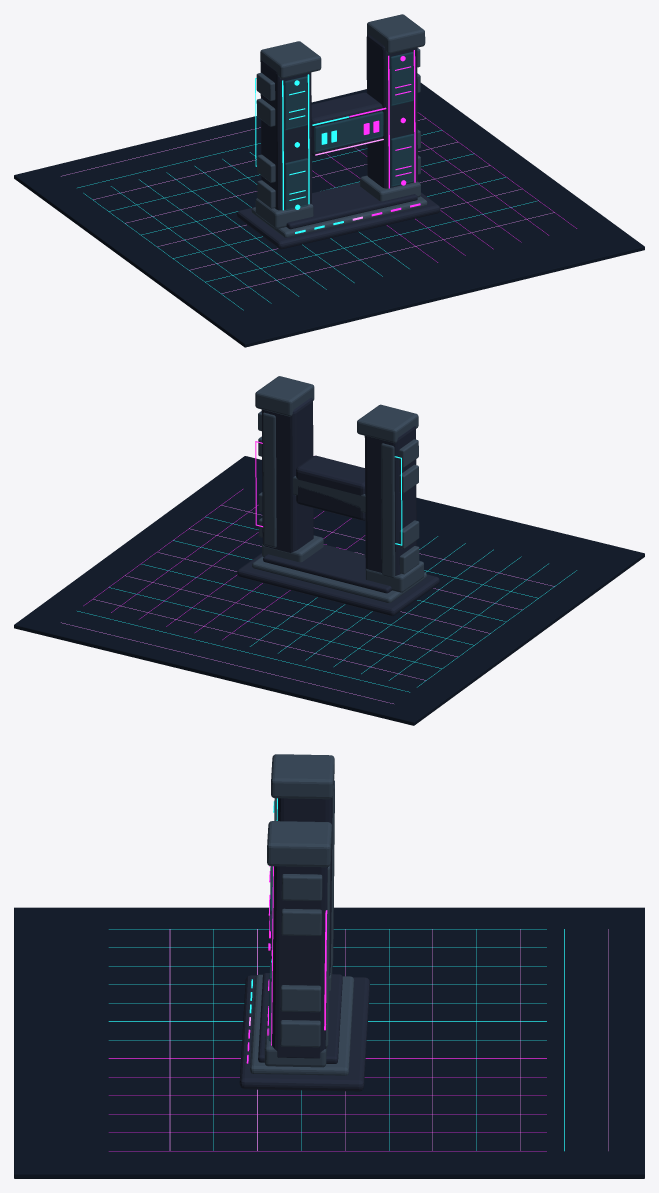
The model's file is holsbi-core.glb.
3 renders of one model, top to bottom at view 1: azimuth 30°, elevation 25°; view 2: azimuth 150°, elevation 25°; view 3: azimuth 270°, elevation 25°, orthographic. The views are drawn at different scales.
Visible parts, largest first — view 1: Preview_Floor, Core_Right, Core_Left, Core_Bridge, Base_Lower, Base_Upper, Module_Right_Top, Glass_Bridge, Module_Left_Top, Base_Middle, Glass_Right_Upper, Glass_Left_Upper (+4 smaller); view 2: Preview_Floor, Core_Right, Core_Left, Core_Bridge, Base_Lower, Base_Upper, Left_Back_Rib, Right_Back_Rib, Module_Right_Top, Module_Left_Top, Base_Middle, Module_Left_Low (+2 smaller); view 3: Preview_Floor, Core_Right, Base_Lower, Module_Right_Top, Module_Left_Top, Base_Middle, Base_Upper, Core_Left, SidePlate_R_1, SidePlate_R_0, SidePlate_R_3, SidePlate_R_2 (+2 smaller).
Boxes of the visible parts, <box> form: Preview_Floor: <box>14,83,644,347</box>; Core_Right: <box>366,34,417,188</box>; Core_Left: <box>260,60,311,210</box>; Core_Bridge: <box>311,92,382,156</box>; Base_Lower: <box>237,192,440,249</box>; Base_Upper: <box>286,182,417,229</box>; Module_Right_Top: <box>367,14,425,53</box>; Glass_Bridge: <box>314,111,383,151</box>; Module_Left_Top: <box>260,41,321,78</box>; Base_Middle: <box>251,196,427,237</box>; Glass_Right_Upper: <box>390,52,413,105</box>; Glass_Left_Upper: <box>284,76,307,130</box>; Preview_Floor: <box>14,456,644,725</box>; Core_Right: <box>261,398,313,552</box>; Core_Left: <box>364,426,416,575</box>; Core_Bridge: <box>296,455,365,520</box>; Base_Lower: <box>237,553,439,616</box>; Base_Upper: <box>263,544,391,593</box>; Left_Back_Rib: <box>381,443,395,577</box>; Right_Back_Rib: <box>263,412,276,547</box>; Module_Right_Top: <box>255,376,314,416</box>; Module_Left_Top: <box>357,404,418,443</box>; Base_Middle: <box>252,556,426,602</box>; Module_Left_Low: <box>365,561,424,592</box>; Preview_Floor: <box>14,907,644,1178</box>; Core_Right: <box>272,866,327,1058</box>; Base_Lower: <box>239,975,369,1091</box>; Module_Right_Top: <box>267,821,331,867</box>; Module_Left_Top: <box>271,754,334,799</box>; Base_Middle: <box>250,974,354,1075</box>; Base_Upper: <box>258,973,342,1063</box>; Core_Left: <box>277,798,332,975</box>; SidePlate_R_1: <box>280,985,321,1012</box>; SidePlate_R_0: <box>280,1020,320,1047</box>; SidePlate_R_3: <box>281,874,322,900</box>; SidePlate_R_2: <box>281,908,321,935</box>.
Size of the model in its own units: 18 by 7.88 by 18.
